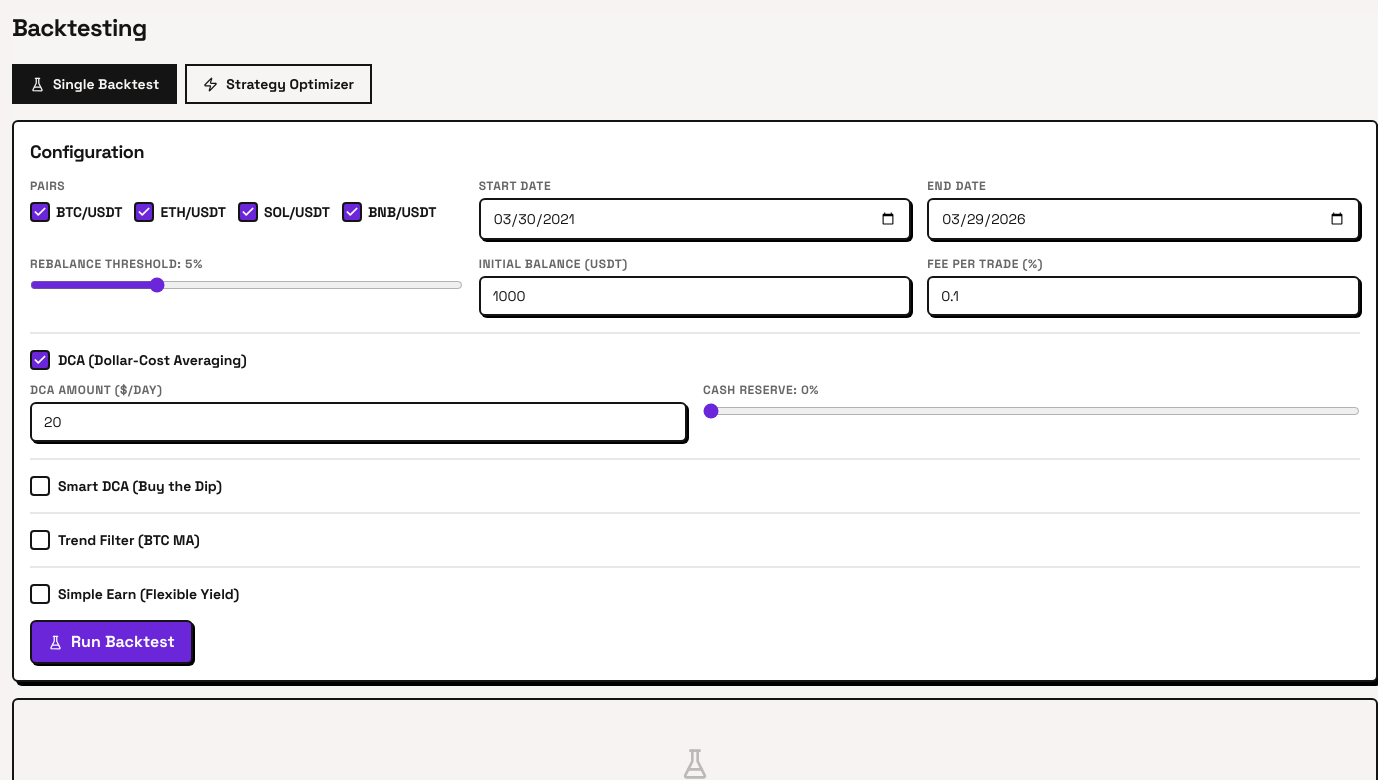
BacktestingPage › disables run button when no pairs selected
Uncheck all 4 pair checkboxes (indices 0–3)
Click the checkbox labelled "BTC/USDT" at [40, 212], box [30,202,50,222]
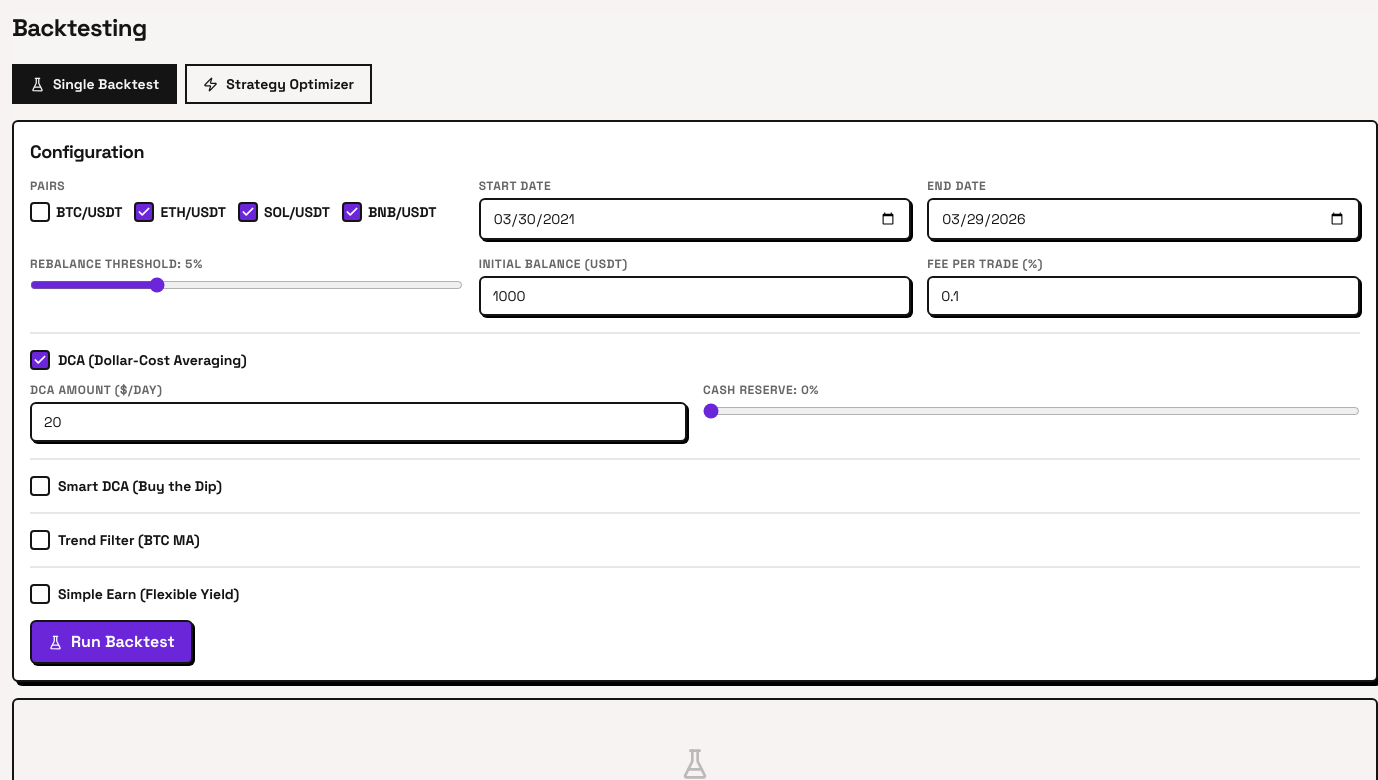
Click the checkbox labelled "ETH/USDT" at [144, 212], box [134,202,154,222]
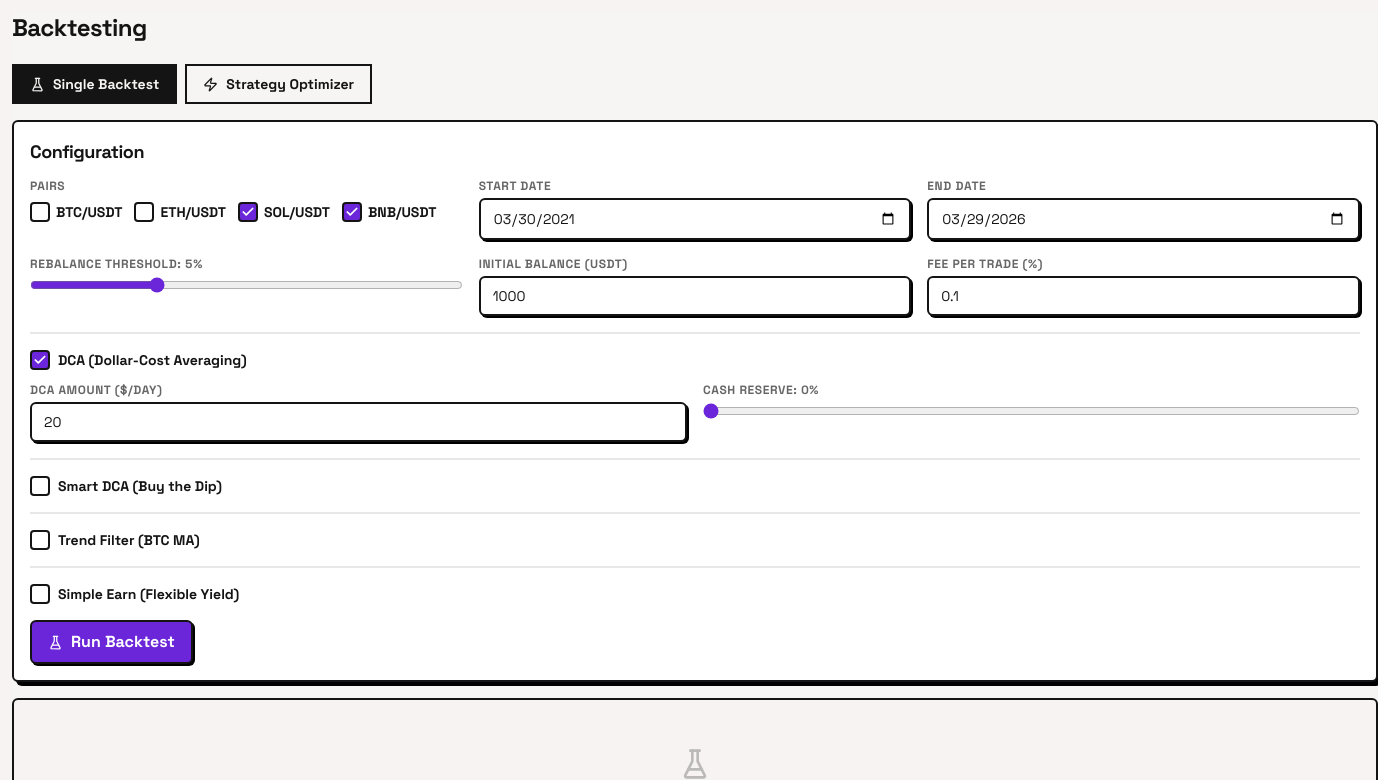
Click the checkbox labelled "SOL/USDT" at [248, 212], box [238,202,258,222]
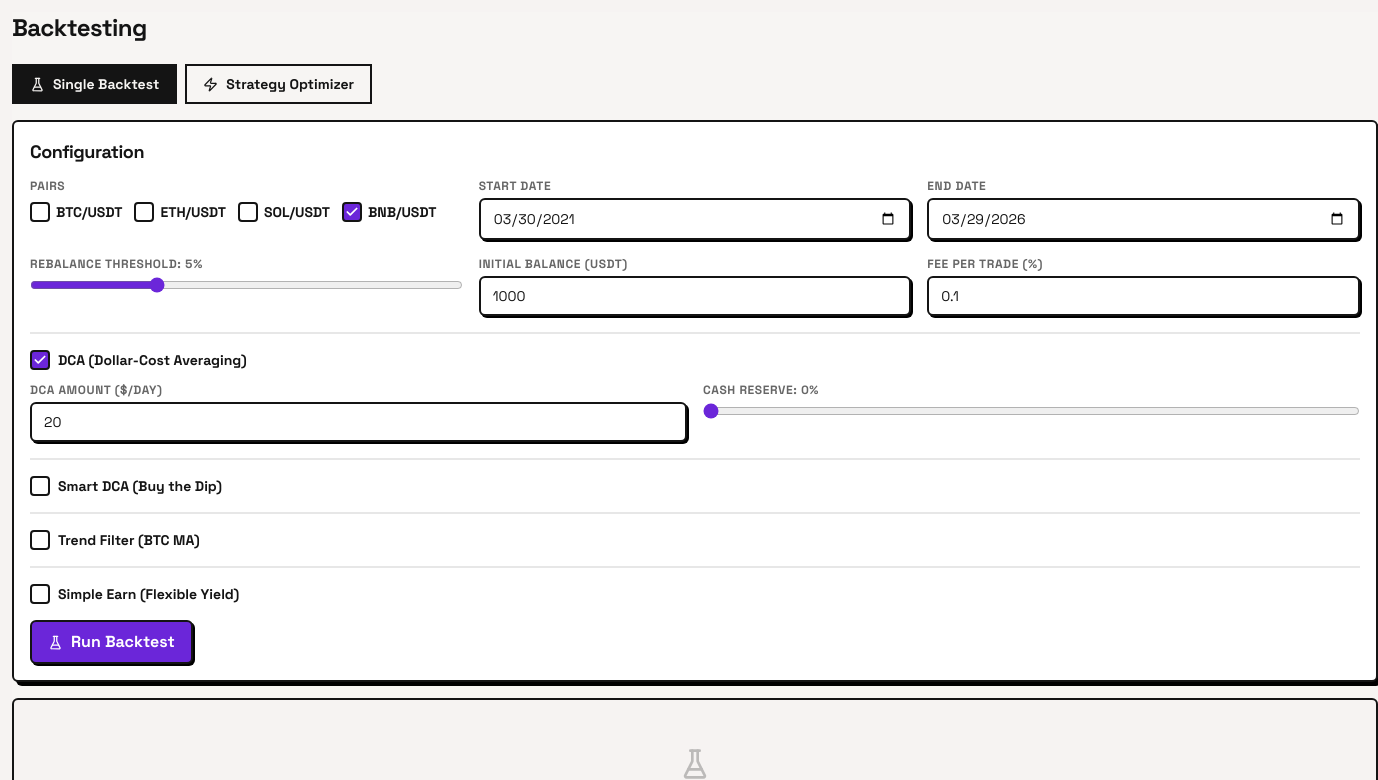
Click the checkbox labelled "BNB/USDT" at [352, 212], box [342,202,362,222]
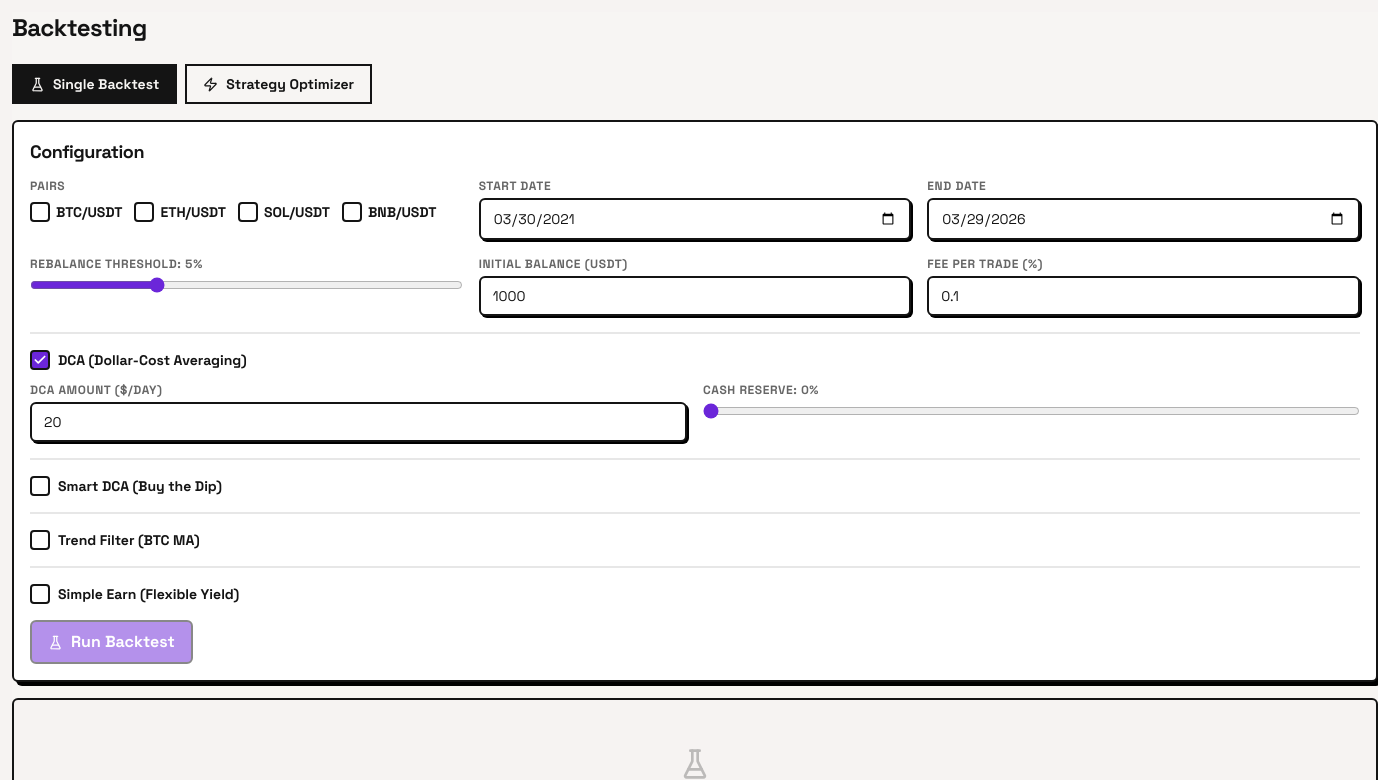
Result: the button "Run Backtest" is disabled at [30,620,193,664]
